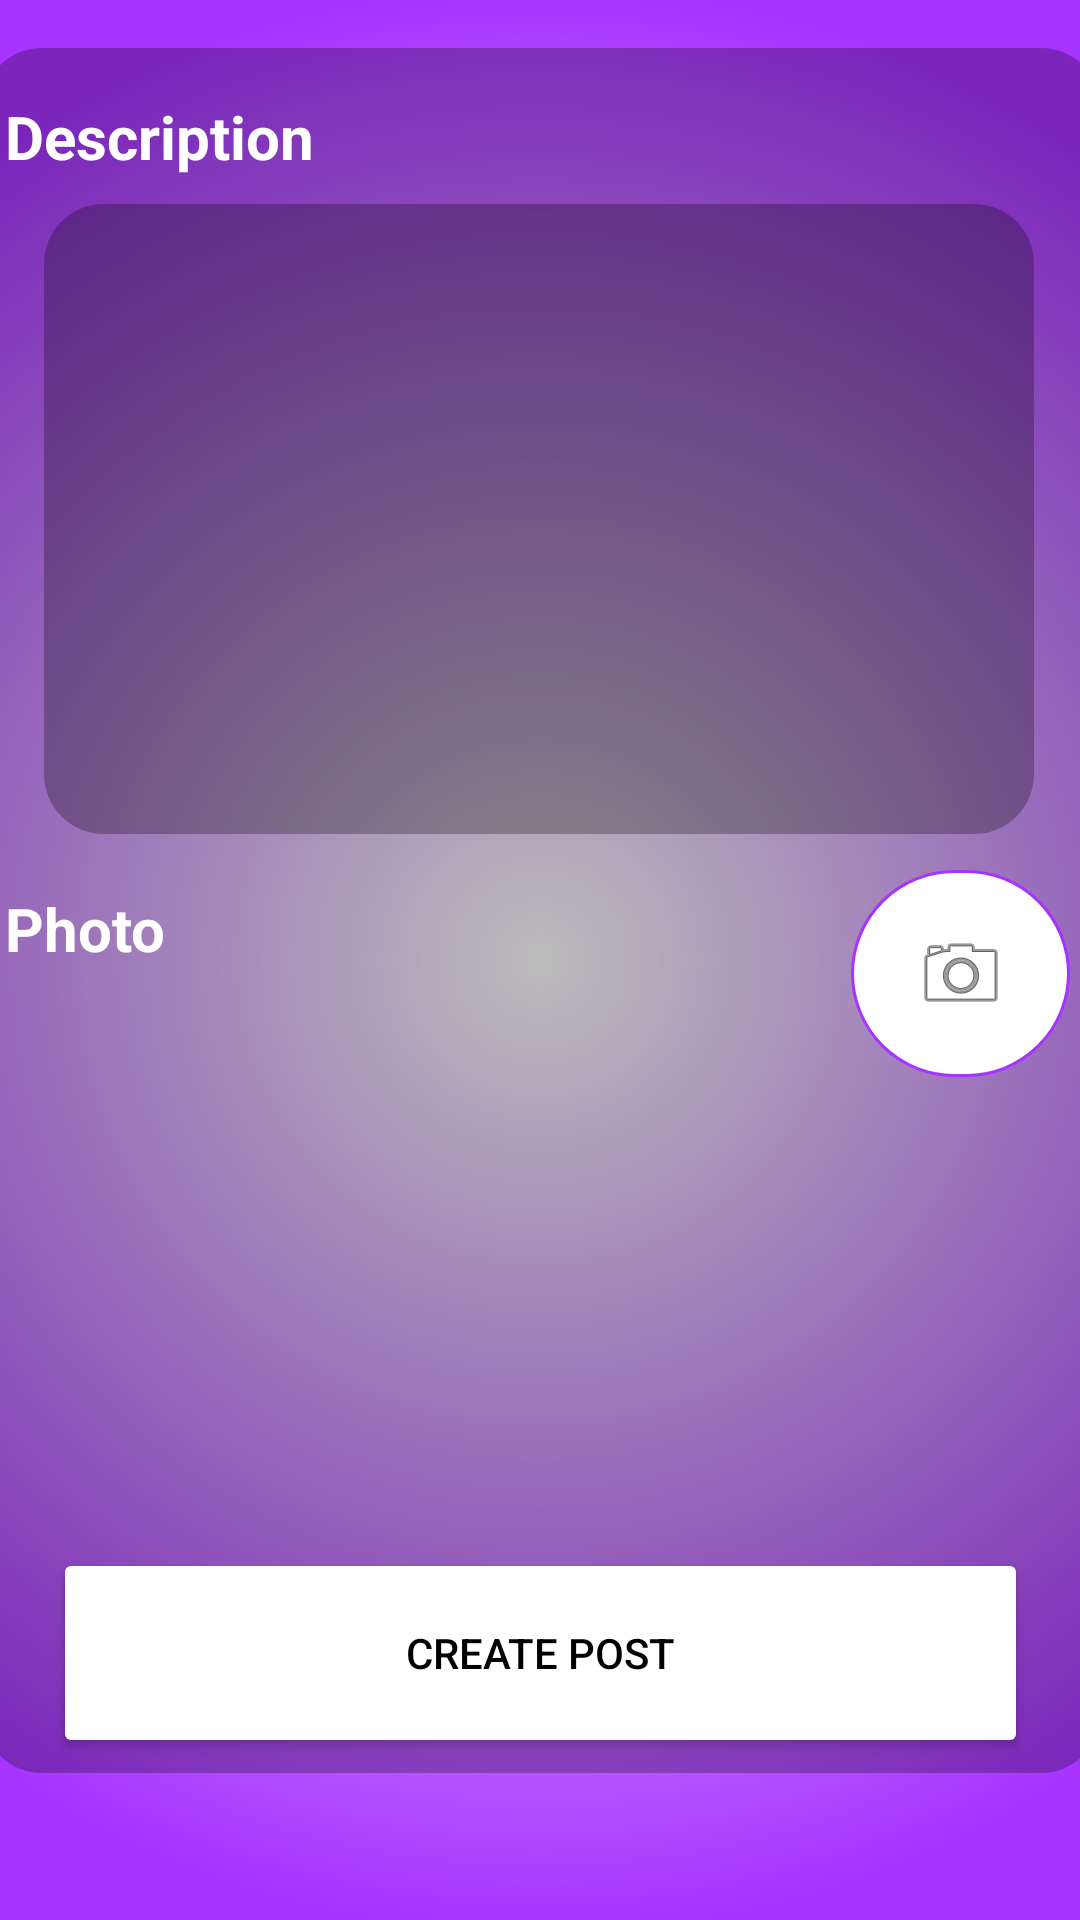

Where to tap for icons on this 1080×1920 app screen, as (x=x, y=y):
camera: (x=960, y=973)
